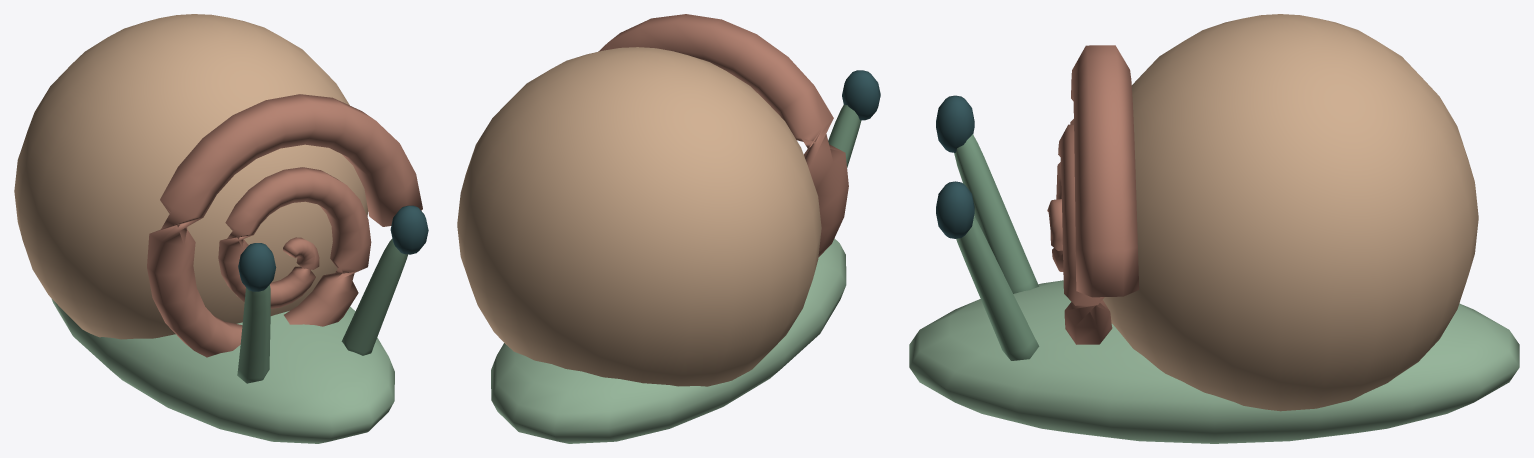
Rendered from snail.glb.
The picture shows the model from 3 angles, left to right: view 1: azimuth 30°, elevation 25°; view 2: azimuth 150°, elevation 25°; view 3: azimuth 270°, elevation 25°; orthographic projection. The views are drawn at different scales.
Visible parts, largest first — view 1: food_snail_painted_mesh; view 2: food_snail_painted_mesh; view 3: food_snail_painted_mesh.
Boxes of the visible parts, box(x1,y1,x2,y2) form: food_snail_painted_mesh: box(14, 14, 428, 443); food_snail_painted_mesh: box(457, 14, 880, 443); food_snail_painted_mesh: box(909, 14, 1519, 443).
Bounding box in the file's own units: 0.82 × 0.83 × 1.2.
